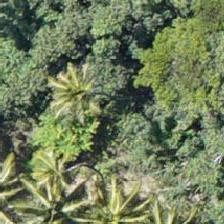coconut_tree: (30, 52, 120, 142), (10, 171, 100, 223)
